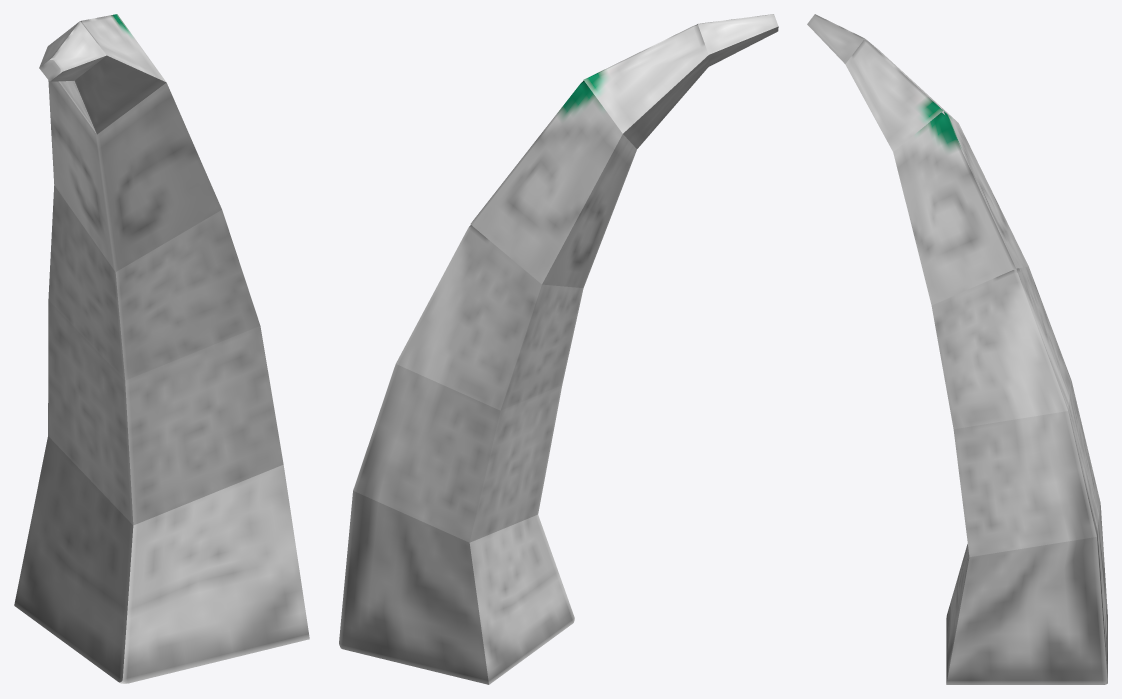
The model's file is BlockNexusPillar.obj.
3 renders of one model, left to right at view 1: azimuth 30°, elevation 25°; view 2: azimuth 150°, elevation 25°; view 3: azimuth 270°, elevation 25°, orthographic. The views are drawn at different scales.
Parts seen in each view (by area): view 1: Pillars_Cube.001; view 2: Pillars_Cube.001; view 3: Pillars_Cube.001.
Boxes of the visible parts, bbox=[...] form: Pillars_Cube.001: bbox=[14, 14, 309, 683]; Pillars_Cube.001: bbox=[339, 14, 778, 684]; Pillars_Cube.001: bbox=[807, 14, 1107, 684].
Size of the model in its own units: 2.56 by 5.03 by 2.52.
